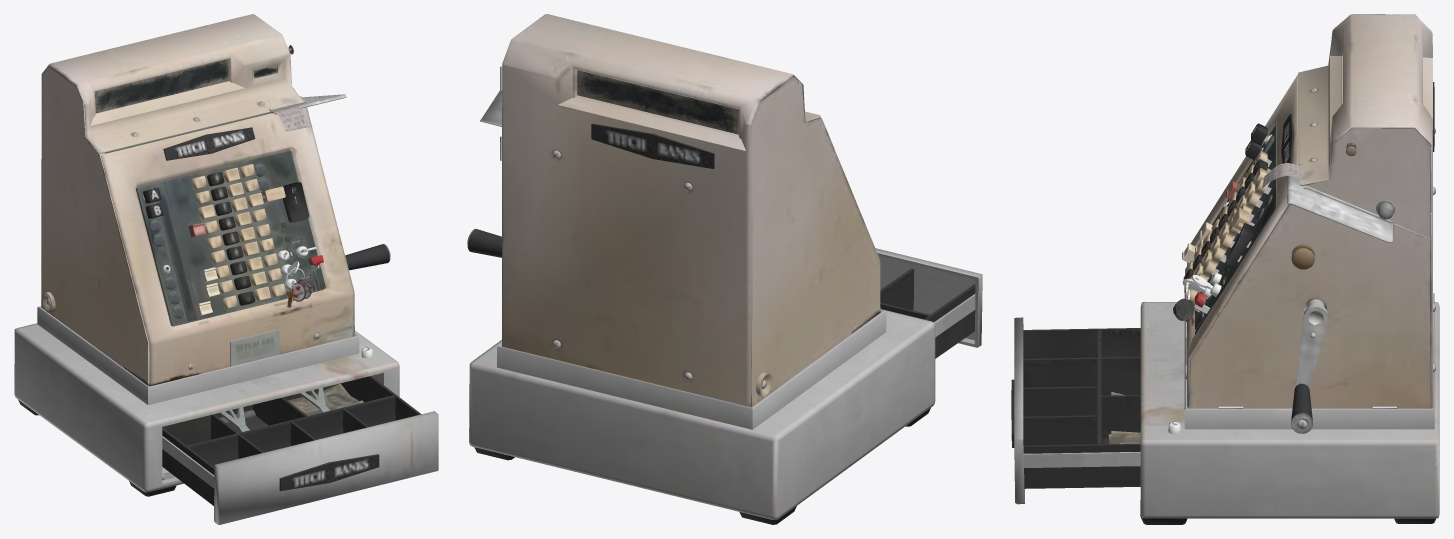
File: CashRegister_01.glb
3 views of the same model, side by side, from view 1: azimuth 30°, elevation 25°; view 2: azimuth 150°, elevation 25°; view 3: azimuth 270°, elevation 25° (orthographic). The views are drawn at different scales.
Parts seen in each view (by area): view 1: CashRegister_01_body, CashRegister_011_drawer; view 2: CashRegister_01_body, CashRegister_011_drawer; view 3: CashRegister_01_body, CashRegister_011_drawer.
Boxes of the visible parts, <box> form: CashRegister_01_body: <box>14,14,399,496</box>; CashRegister_011_drawer: <box>162,376,438,524</box>; CashRegister_01_body: <box>467,14,935,524</box>; CashRegister_011_drawer: <box>875,248,982,358</box>; CashRegister_01_body: <box>1140,14,1439,524</box>; CashRegister_011_drawer: <box>1011,317,1140,504</box>.
Bounding box in the file's own units: 0.6005 × 0.6211 × 0.6242.
2 materials, 2 textured.
